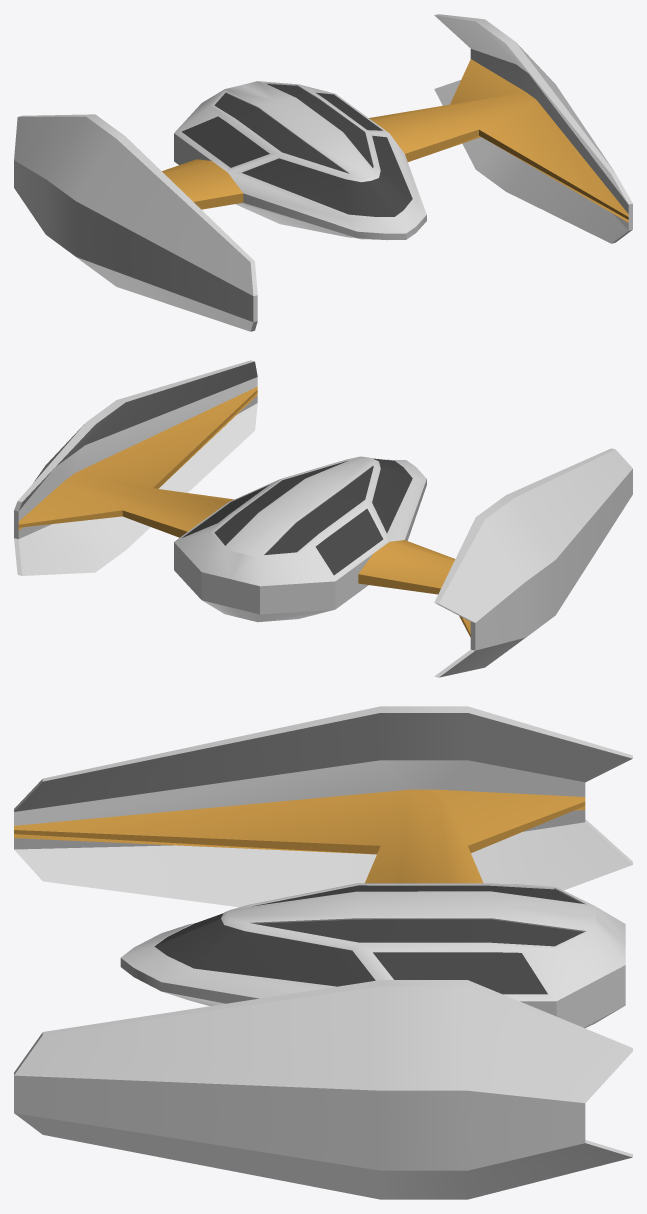
Rendered from ship_11.fbx.
The picture shows the model from 3 angles, top to bottom: view 1: azimuth 30°, elevation 25°; view 2: azimuth 150°, elevation 25°; view 3: azimuth 270°, elevation 25°; orthographic projection. The views are drawn at different scales.
Parts seen in each view (by area): view 1: ship_11; view 2: ship_11; view 3: ship_11.
Part boxes in pixels (box(x1,y1,x2,y2)): ship_11: box(14, 14, 632, 331); ship_11: box(14, 360, 632, 677); ship_11: box(14, 706, 632, 1199).
Size of the model in its own units: 1425 by 420 by 1106.
